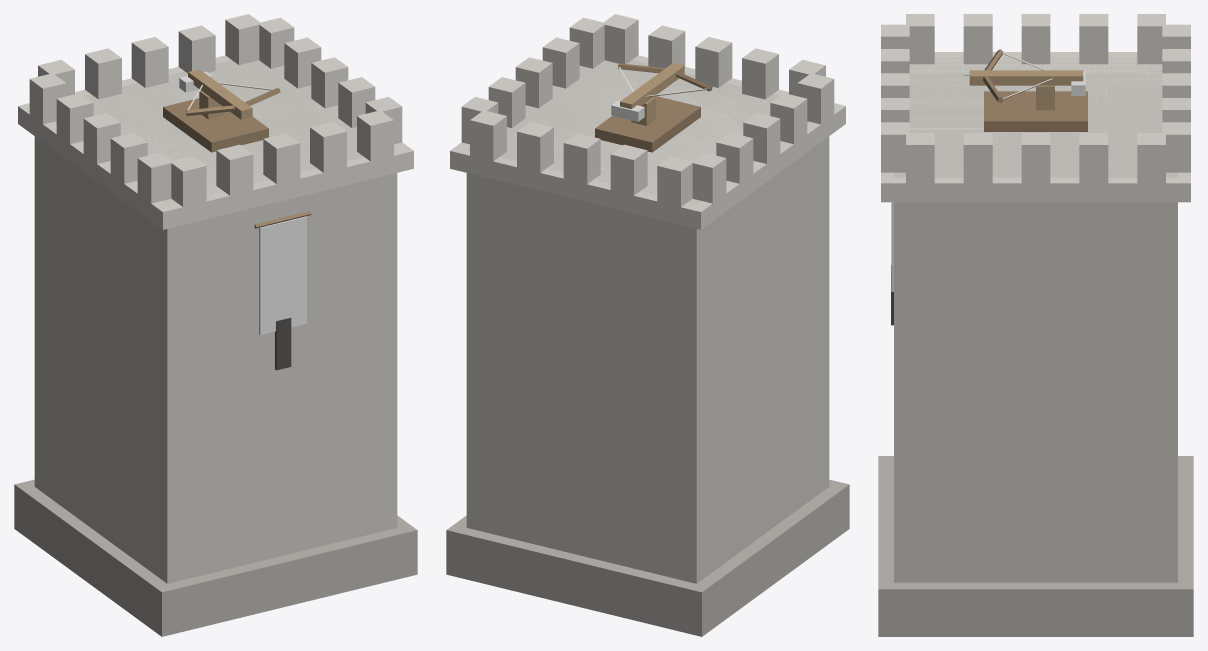
The picture shows the model from 3 angles, left to right: view 1: azimuth 30°, elevation 25°; view 2: azimuth 150°, elevation 25°; view 3: azimuth 270°, elevation 25°; orthographic projection. The views are drawn at different scales.
Parts seen in each view (by area): view 1: body; view 2: body; view 3: body.
Part boxes in pixels (x1,y1,x2,y2): body: (14,14,417,636); body: (446,14,849,636); body: (878,14,1193,636).
Bounding box in the file's own units: 6 × 10.44 × 6.
